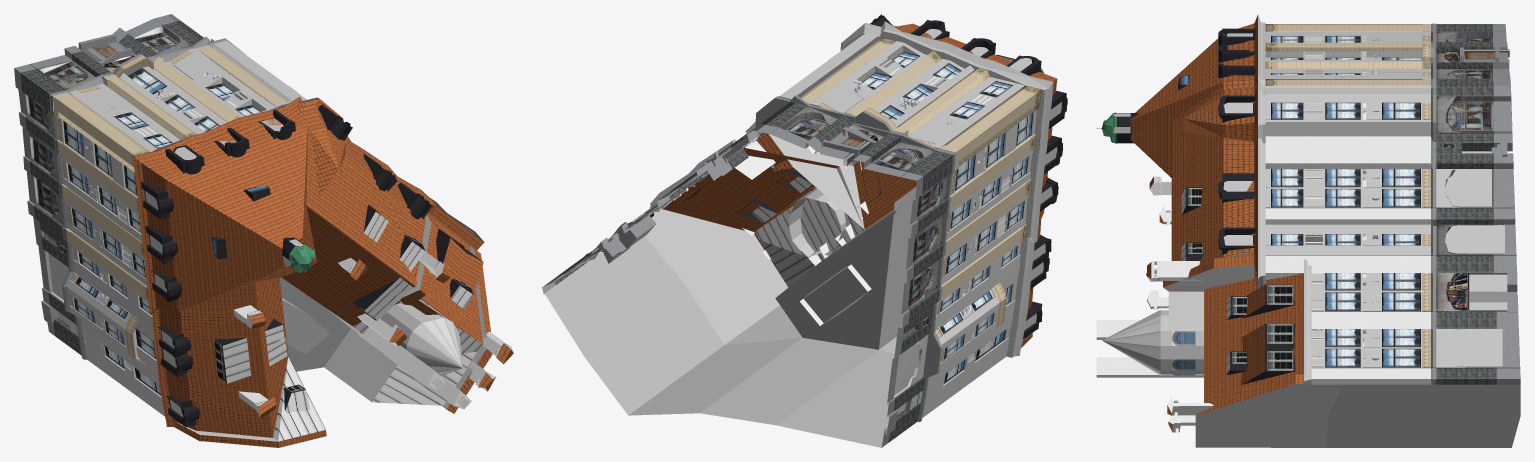
Rendered from Suur-Karja_7-origo.obj.
The picture shows the model from 3 angles, left to right: view 1: azimuth 30°, elevation 25°; view 2: azimuth 150°, elevation 25°; view 3: azimuth 270°, elevation 25°; orthographic projection. The views are drawn at different scales.
Visible parts, largest first — view 1: suurkarja7; view 2: suurkarja7, xxx; view 3: suurkarja7, xxx.
Boxes of the visible parts, left/top/right/bottom form: suurkarja7: left=14, top=14, right=513, bottom=447; suurkarja7: left=542, top=14, right=1067, bottom=447; xxx: left=544, top=236, right=894, bottom=447; suurkarja7: left=1096, top=14, right=1520, bottom=447; xxx: left=1327, top=384, right=1520, bottom=447.
Bounding box in the file's own units: 30.25 × 25 × 30.48.
